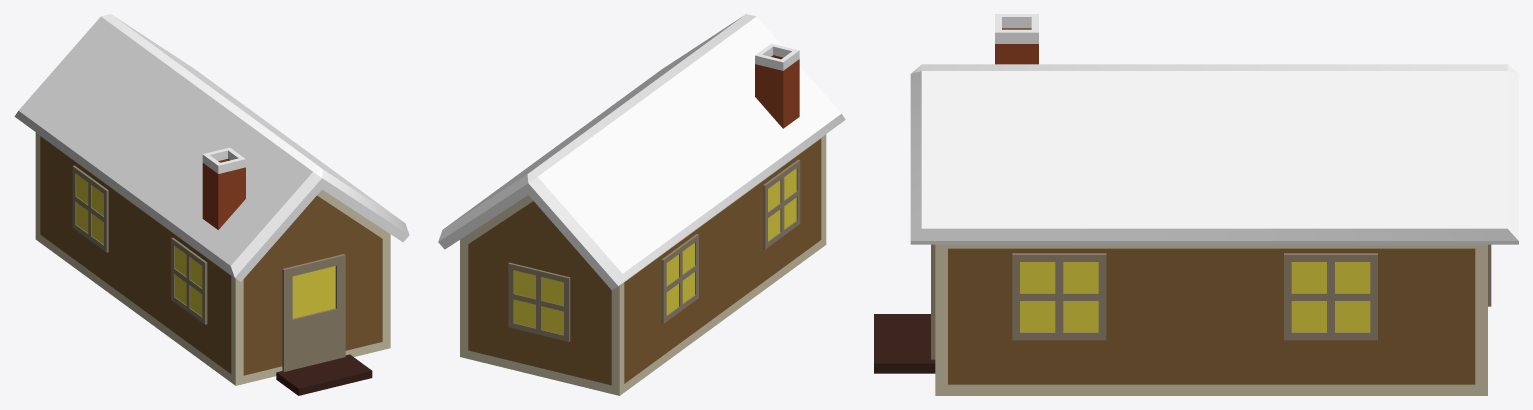
Rendered from House5.fbx.
3 views of the same model, side by side, from view 1: azimuth 30°, elevation 25°; view 2: azimuth 150°, elevation 25°; view 3: azimuth 270°, elevation 25° (orthographic). The views are drawn at different scales.
Parts seen in each view (by area): view 1: House5; view 2: House5; view 3: House5.
Boxes of the visible parts, x1,y1,x2,y2 form: House5: (14,14,409,395); House5: (438,14,845,395); House5: (874,14,1518,395).
Bounding box in the file's own units: 330 × 373 × 764.
